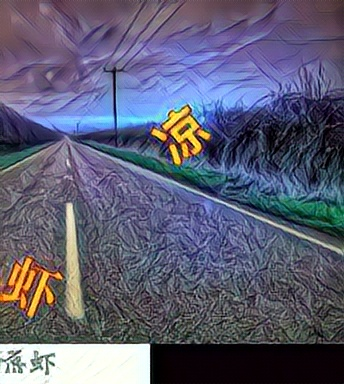C1B9: (148, 103, 211, 170)
CFBA: (1, 255, 64, 322)
